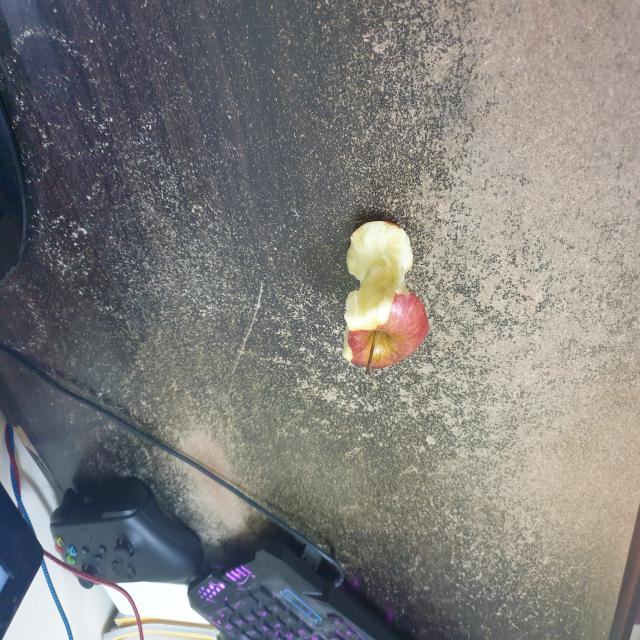apple: (326, 214, 432, 386)
